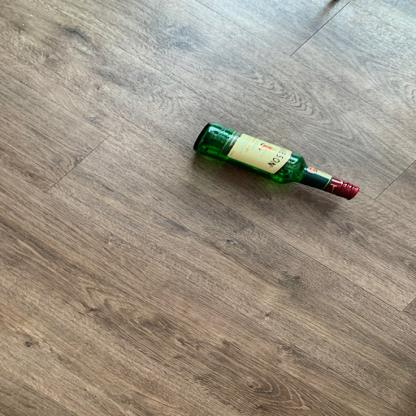trash: (192, 124, 362, 204)
